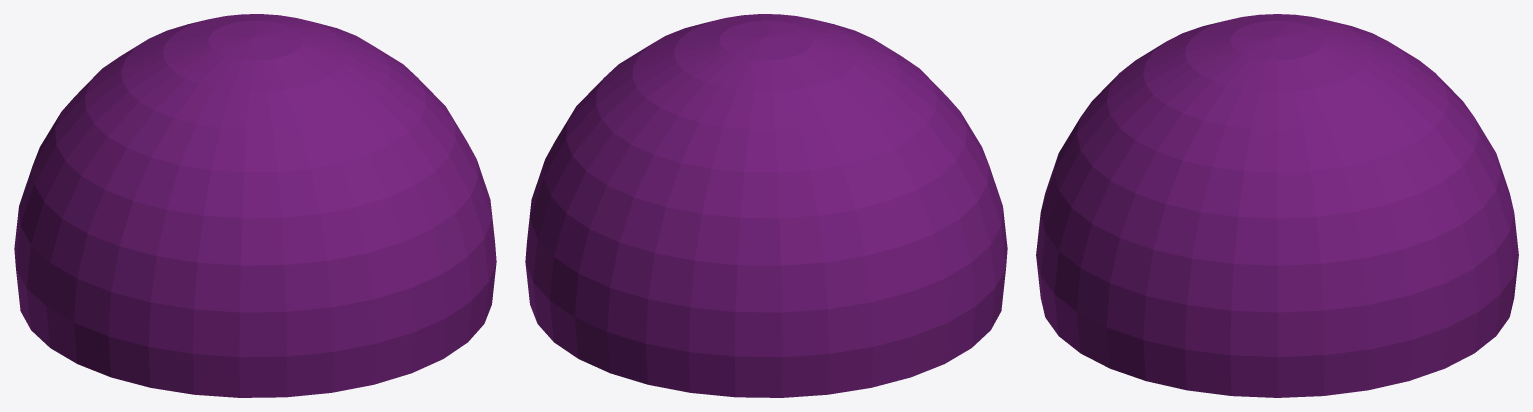
The model's file is shield.glb.
The picture shows the model from 3 angles, left to right: view 1: azimuth 30°, elevation 25°; view 2: azimuth 150°, elevation 25°; view 3: azimuth 270°, elevation 25°; orthographic projection.
Visible parts, largest first — view 1: 球体; view 2: 球体; view 3: 球体.
Boxes of the visible parts, x1,y1,x2,y2 form: 球体: (14, 14, 496, 397); 球体: (525, 14, 1007, 397); 球体: (1036, 14, 1518, 397).
Bounding box in the file's own units: 2 × 1.2 × 2.
